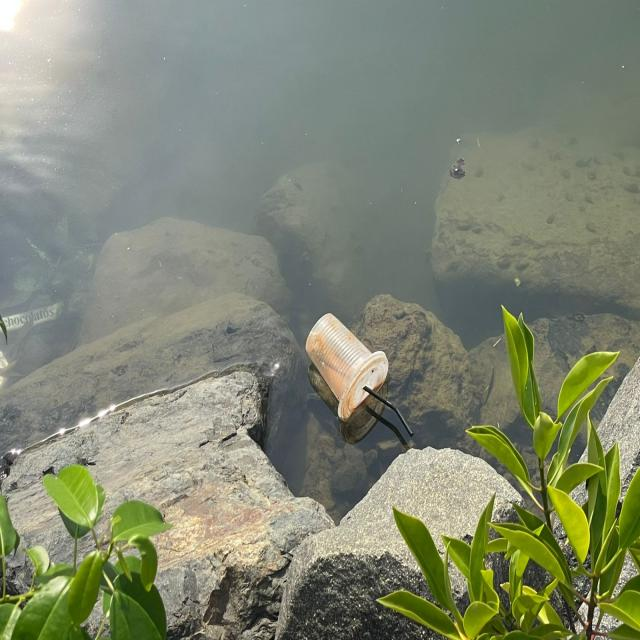Bungkus Minuman: (301, 308, 392, 421)
